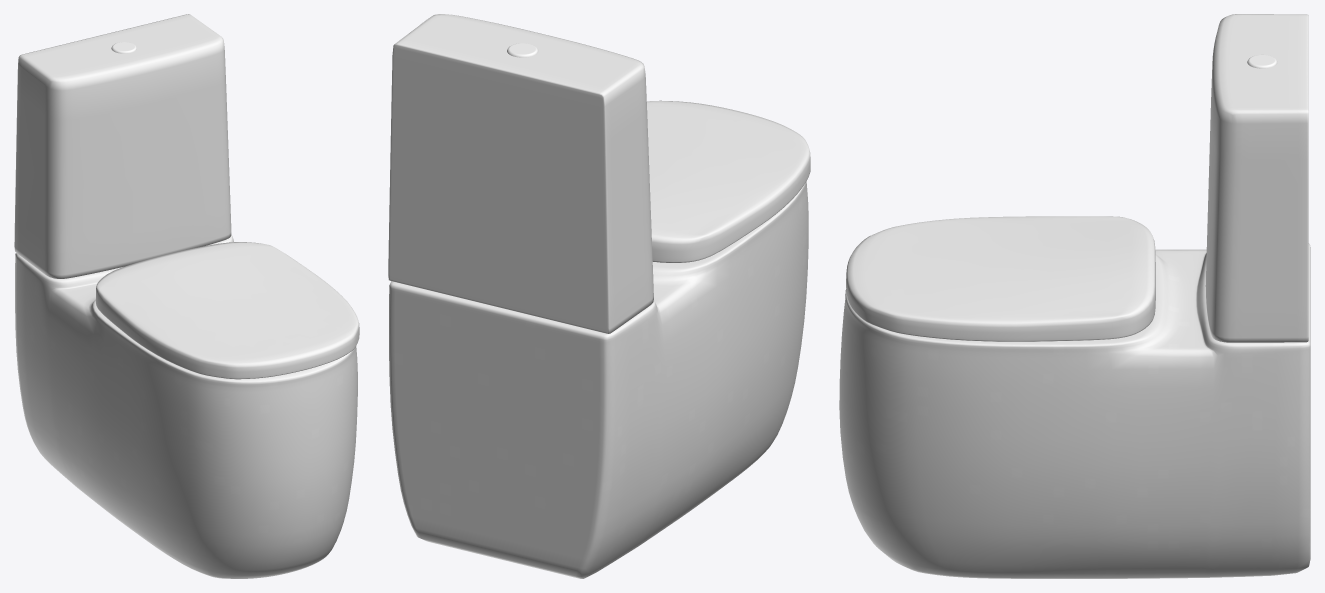
The model's file is toilet3.glb.
3 renders of one model, left to right at view 1: azimuth 30°, elevation 25°; view 2: azimuth 150°, elevation 25°; view 3: azimuth 270°, elevation 25°, orthographic. The views are drawn at different scales.
Visible parts, largest first — view 1: Roca Beyond Rimless Toilet; view 2: Roca Beyond Rimless Toilet; view 3: Roca Beyond Rimless Toilet.
Boxes of the visible parts, left/top/right/bottom form: Roca Beyond Rimless Toilet: left=14, top=14, right=359, bottom=578; Roca Beyond Rimless Toilet: left=388, top=14, right=810, bottom=578; Roca Beyond Rimless Toilet: left=839, top=14, right=1310, bottom=578.
Size of the model in its own units: 0.3926 by 0.7901 by 0.7038.
Materials: 2 (1 with a texture image).
